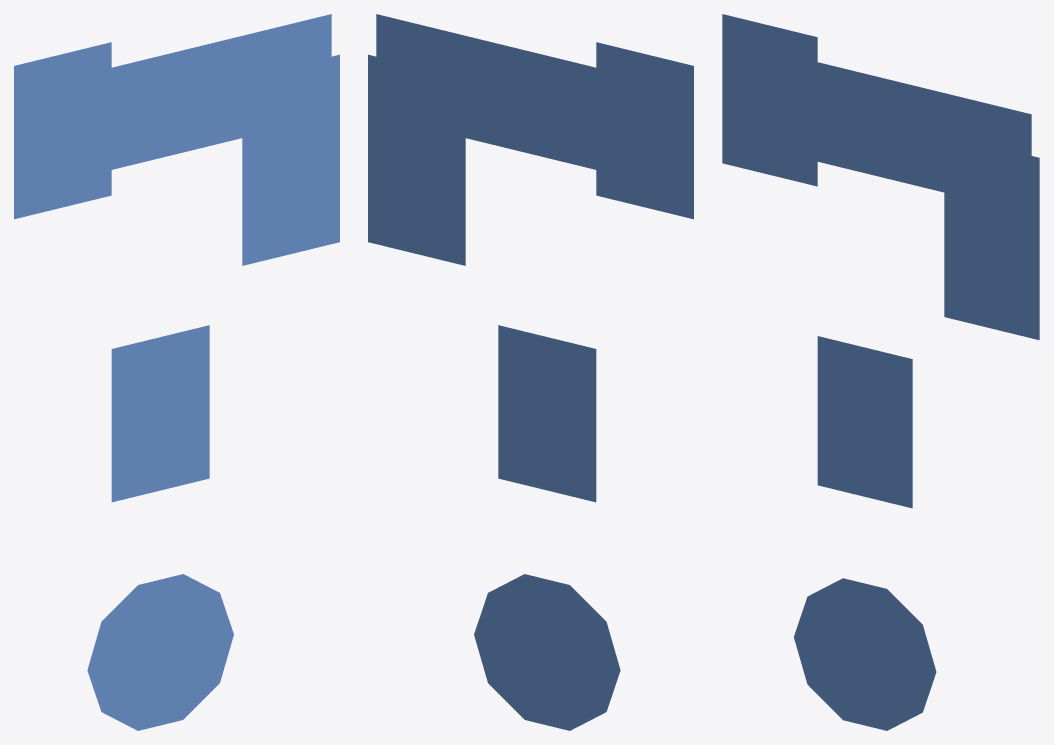
The model's file is question.glb.
3 views of the same model, side by side, from view 1: azimuth 30°, elevation 25°; view 2: azimuth 150°, elevation 25°; view 3: azimuth 330°, elevation 25° (orthographic). The views are drawn at different scales.
Parts seen in each view (by area): view 1: question; view 2: question; view 3: question.
Part boxes in pixels (x1,y1,x2,y2): question: [14, 14, 339, 730]; question: [368, 14, 693, 730]; question: [722, 14, 1039, 730].
Bounding box in the file's own units: 0.4 × 0.8156 × 0.
